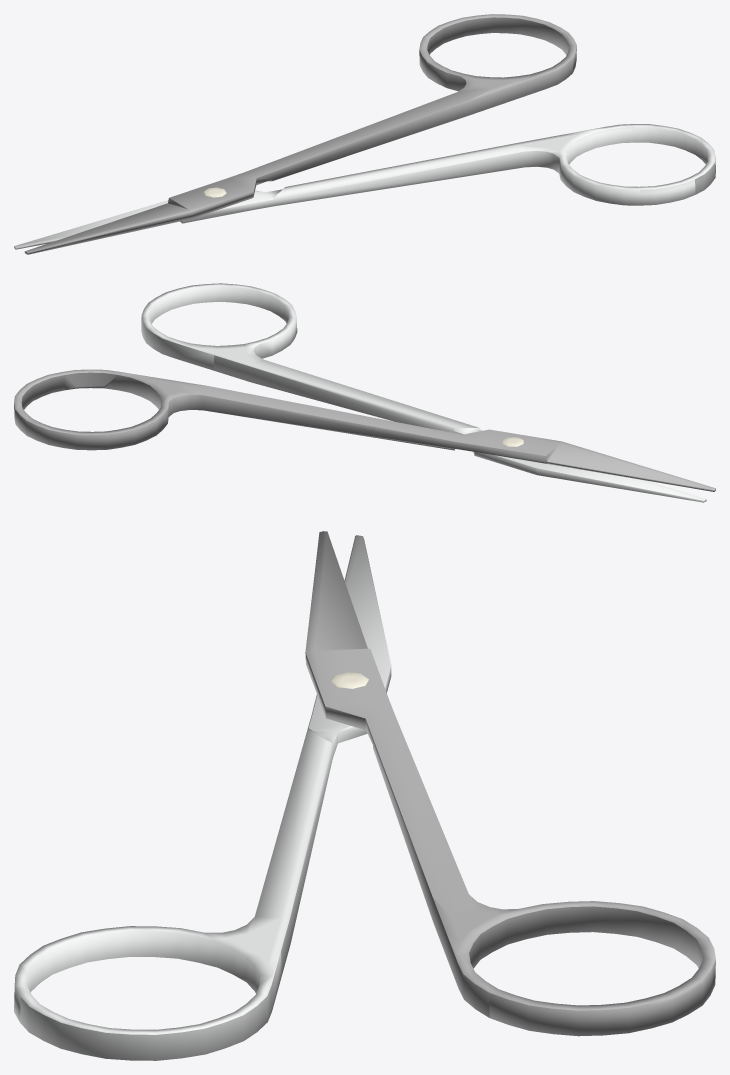
File: Surgery_Equipmet4.fbx
3 views of the same model, one above another, from view 1: azimuth 30°, elevation 25°; view 2: azimuth 150°, elevation 25°; view 3: azimuth 270°, elevation 25° (orthographic). The views are drawn at different scales.
Visible parts, largest first — view 1: Surgery_Equipmet4; view 2: Surgery_Equipmet4; view 3: Surgery_Equipmet4.
Boxes of the visible parts, x1,y1,x2,y2 form: Surgery_Equipmet4: (14, 14, 715, 254); Surgery_Equipmet4: (14, 283, 715, 502); Surgery_Equipmet4: (14, 531, 715, 1060).
Bounding box in the file's own units: 9.57 × 0.4198 × 5.64.
